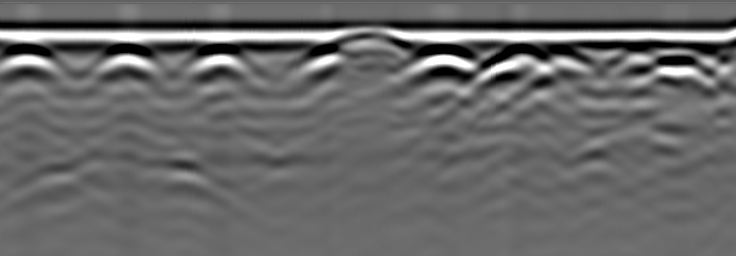pipe: (325, 28, 411, 55)
steel: (410, 48, 476, 79), (644, 46, 708, 76), (188, 47, 250, 77), (490, 44, 548, 74), (98, 46, 157, 75), (1, 46, 59, 72)
